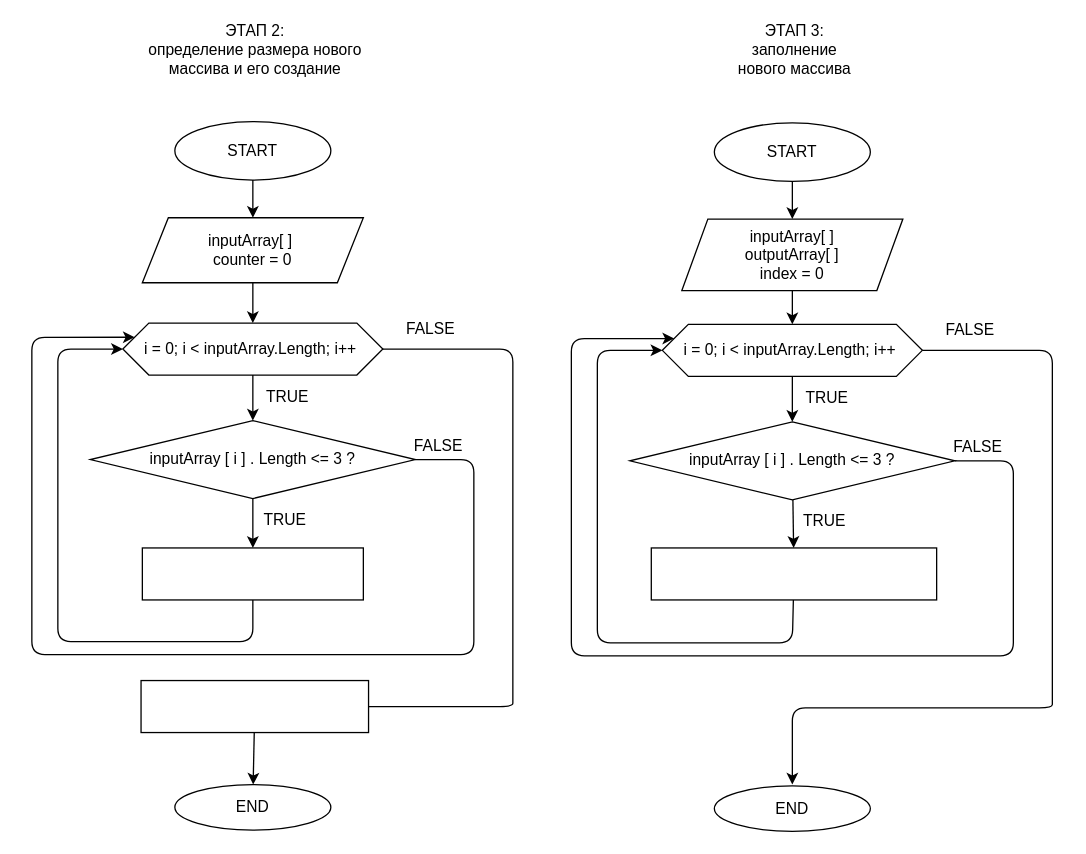
This 1086x854 diagram has some shape labels left out. The centre of each missing label's shape, as x and y in pixels:
counter ++: the point at 252,573
outputArray [ ] = new [counter]: the point at 254,706
outputArray [index] = inputArray [ i ] index ++: the point at 793,573
